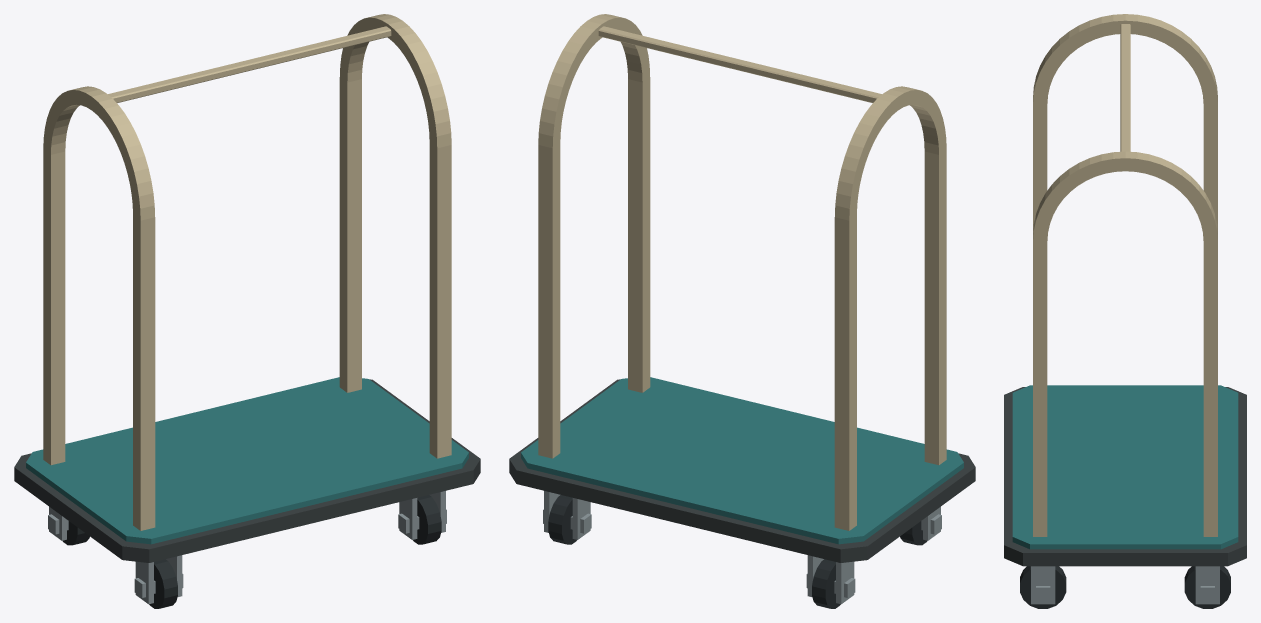
3 renders of one model, left to right at view 1: azimuth 30°, elevation 25°; view 2: azimuth 150°, elevation 25°; view 3: azimuth 270°, elevation 25°, orthographic. The views are drawn at different scales.
Visible parts, largest first — view 1: IntegralLowFlatDeckAndPerimeter, WholeArchedEndFrame_Left, WholeArchedEndFrame_Right, UpperLongitudinalCrownBar, FixedWheelGroup_2_1_SixteenFacetBoredTyre, FixedWheelGroup_1_1_SixteenFacetBoredTyre, FixedWheelGroup_1_1_WholeBoredBridgeFork, FixedWheelGroup_2_1_WholeBoredBridgeFork; view 2: IntegralLowFlatDeckAndPerimeter, WholeArchedEndFrame_Left, WholeArchedEndFrame_Right, UpperLongitudinalCrownBar, FixedWheelGroup_2_2_SixteenFacetBoredTyre, FixedWheelGroup_1_2_SixteenFacetBoredTyre, FixedWheelGroup_1_2_WholeBoredBridgeFork, FixedWheelGroup_2_2_WholeBoredBridgeFork; view 3: IntegralLowFlatDeckAndPerimeter, WholeArchedEndFrame_Right, WholeArchedEndFrame_Left, UpperLongitudinalCrownBar, FixedWheelGroup_2_1_SixteenFacetBoredTyre, FixedWheelGroup_2_2_SixteenFacetBoredTyre, FixedWheelGroup_2_1_WholeBoredBridgeFork, FixedWheelGroup_2_2_WholeBoredBridgeFork.
Part boxes in pixels (x1,y1,x2,y2): IntegralLowFlatDeckAndPerimeter: (14,377,480,562); WholeArchedEndFrame_Left: (43,86,155,530); WholeArchedEndFrame_Right: (339,14,451,458); UpperLongitudinalCrownBar: (108,26,391,102); FixedWheelGroup_2_1_SixteenFacetBoredTyre: (413,495,441,544); FixedWheelGroup_1_1_SixteenFacetBoredTyre: (149,559,177,608); FixedWheelGroup_1_1_WholeBoredBridgeFork: (135,555,182,604); FixedWheelGroup_2_1_WholeBoredBridgeFork: (399,491,445,539); IntegralLowFlatDeckAndPerimeter: (509,377,975,562); WholeArchedEndFrame_Left: (834,86,946,530); WholeArchedEndFrame_Right: (538,14,650,458); UpperLongitudinalCrownBar: (598,26,881,102); FixedWheelGroup_2_2_SixteenFacetBoredTyre: (548,495,576,544); FixedWheelGroup_1_2_SixteenFacetBoredTyre: (812,559,840,608); FixedWheelGroup_1_2_WholeBoredBridgeFork: (807,555,854,604); FixedWheelGroup_2_2_WholeBoredBridgeFork: (544,491,590,539); IntegralLowFlatDeckAndPerimeter: (1004,385,1246,566); WholeArchedEndFrame_Right: (1033,151,1217,536); WholeArchedEndFrame_Left: (1033,14,1217,232); UpperLongitudinalCrownBar: (1120,24,1130,151); FixedWheelGroup_2_1_SixteenFacetBoredTyre: (1020,566,1066,608); FixedWheelGroup_2_2_SixteenFacetBoredTyre: (1184,566,1230,608); FixedWheelGroup_2_1_WholeBoredBridgeFork: (1031,566,1055,604); FixedWheelGroup_2_2_WholeBoredBridgeFork: (1195,566,1219,604).
Size of the model in its own units: 1.36 by 1.75 by 0.84.
